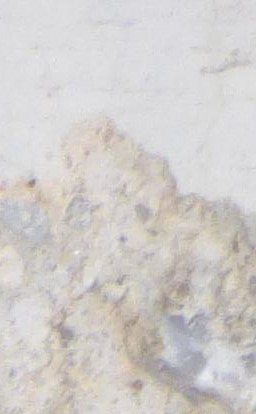Spalling: (1, 114, 256, 414)
